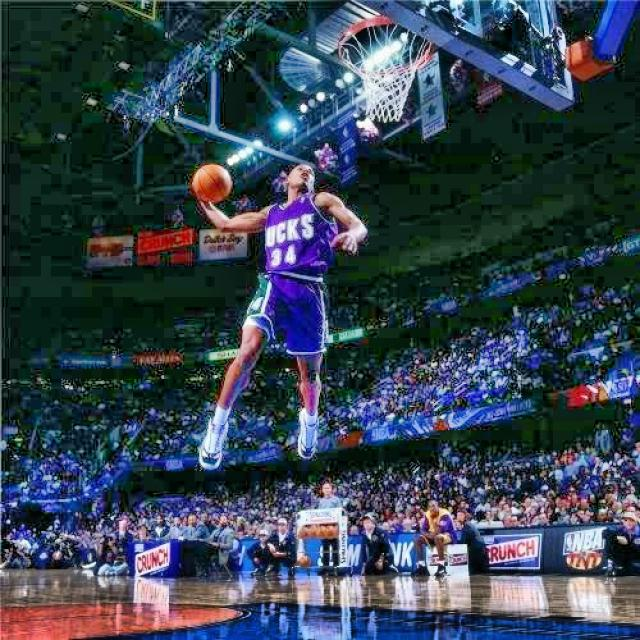board: (193, 164, 232, 202)
rim: (338, 15, 435, 121)
